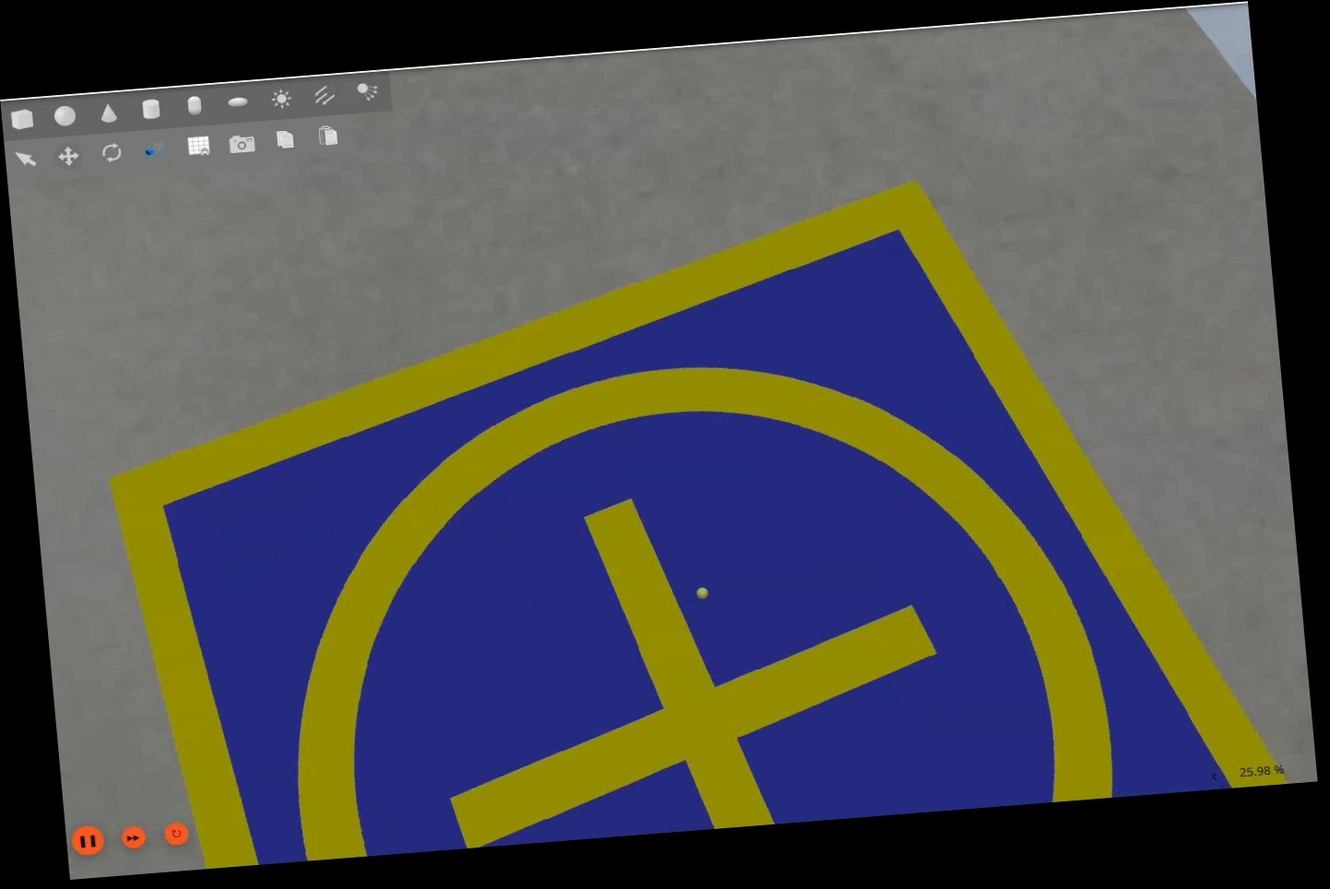small_base: (86, 154, 1287, 874)
